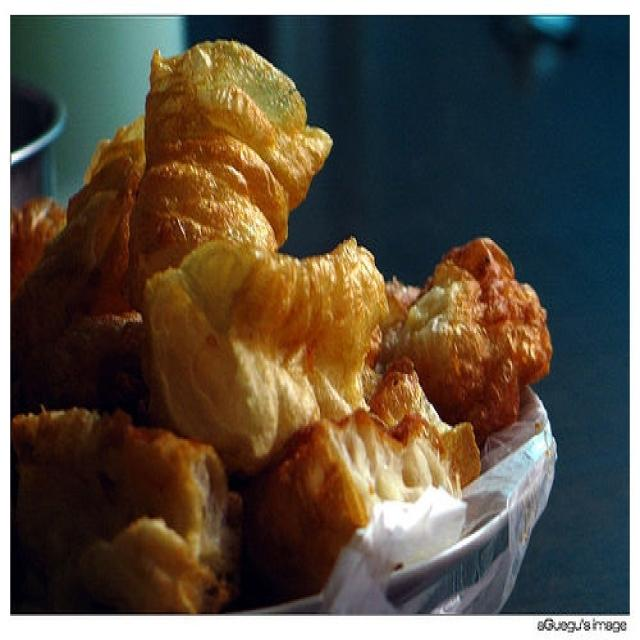炸货点心: (23, 28, 570, 588)
